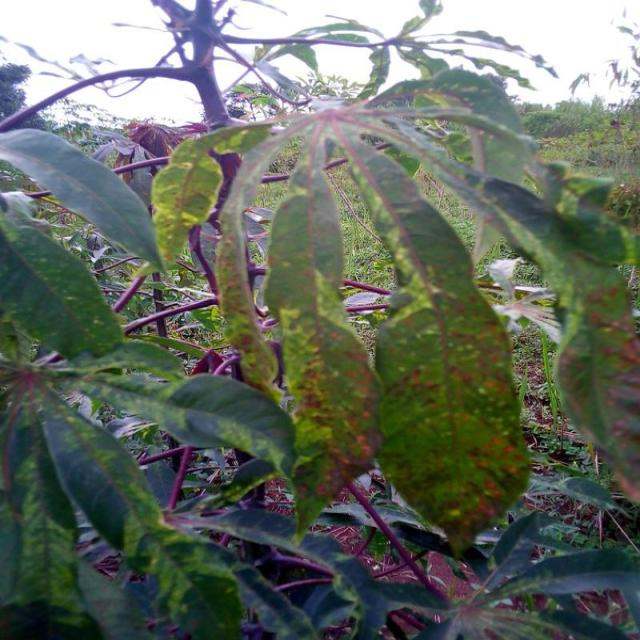cassava leaf: (341, 122, 533, 554), (262, 159, 385, 544), (2, 126, 168, 276)
